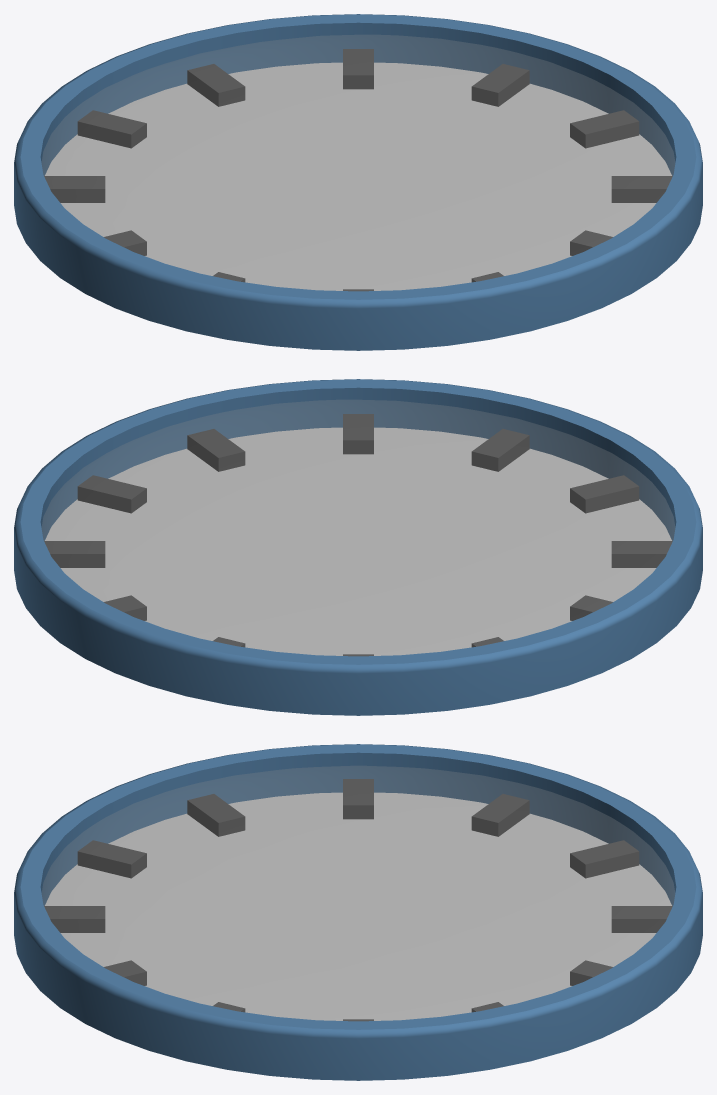
The model's file is Clock.fbx.
The picture shows the model from 3 angles, top to bottom: view 1: azimuth 30°, elevation 25°; view 2: azimuth 150°, elevation 25°; view 3: azimuth 270°, elevation 25°; orthographic projection.
Visible parts, largest first — view 1: Clock_base; view 2: Clock_base; view 3: Clock_base.
Boxes of the visible parts, bbox=[...] form: Clock_base: bbox=[14, 14, 702, 350]; Clock_base: bbox=[14, 379, 702, 715]; Clock_base: bbox=[14, 744, 702, 1080].
Size of the model in its own units: 2 by 0.1636 by 2.
